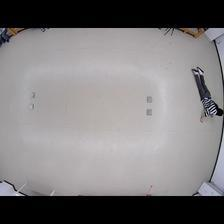fall: (191, 65, 223, 126)
